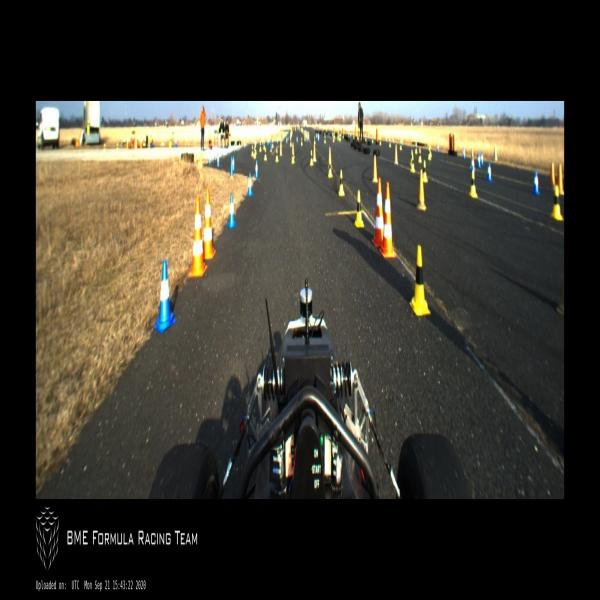blue_cone: (154, 260, 176, 332), (228, 193, 236, 228), (532, 170, 540, 195), (486, 162, 492, 182), (248, 172, 253, 196), (254, 160, 259, 178), (471, 156, 475, 173), (477, 153, 481, 167), (232, 154, 235, 172), (216, 154, 220, 167), (208, 151, 212, 164), (481, 151, 484, 166), (436, 142, 439, 154), (463, 146, 465, 160), (214, 150, 216, 162), (222, 146, 224, 158), (228, 146, 230, 156), (238, 141, 240, 151), (233, 143, 235, 152), (267, 137, 269, 145), (276, 138, 278, 145), (244, 140, 245, 148)
large_orange_cone: (188, 196, 208, 278), (379, 183, 397, 258), (202, 189, 216, 259), (372, 178, 384, 248)
unknown_cone: (417, 169, 426, 210), (557, 164, 564, 194), (550, 163, 557, 192), (372, 155, 379, 183), (469, 149, 476, 170), (230, 157, 234, 180), (328, 146, 332, 168), (394, 144, 398, 164), (493, 145, 498, 161), (312, 144, 316, 162), (291, 142, 295, 159), (279, 140, 283, 156), (270, 139, 272, 152)
yellow_cone: (410, 246, 431, 316), (550, 185, 564, 221), (354, 190, 365, 228), (338, 170, 346, 196), (470, 172, 478, 198), (423, 160, 428, 183), (410, 155, 416, 172), (328, 159, 333, 178), (418, 149, 422, 163), (410, 148, 413, 166), (414, 141, 418, 154), (310, 150, 313, 166), (428, 146, 431, 160), (429, 145, 432, 157), (264, 149, 267, 160), (292, 149, 294, 164), (313, 136, 316, 146), (263, 141, 266, 150), (276, 148, 278, 161), (254, 147, 256, 159), (260, 141, 262, 153), (255, 143, 257, 155), (379, 138, 382, 146), (252, 145, 254, 156), (301, 137, 303, 147), (400, 140, 402, 150), (272, 139, 274, 148), (290, 139, 292, 147), (324, 136, 326, 144), (389, 139, 391, 147), (372, 136, 374, 144), (332, 136, 334, 144)
